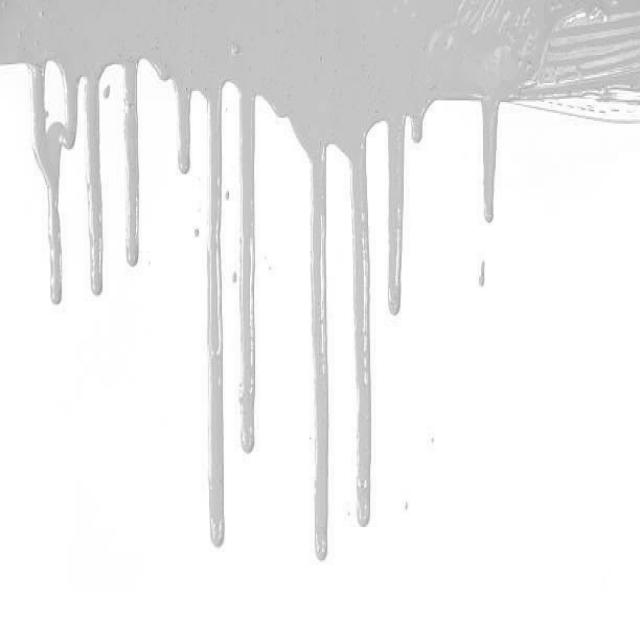paint drips: (274, 94, 436, 565), (149, 46, 271, 554), (1, 39, 148, 310), (446, 84, 519, 228), (476, 247, 488, 295)
